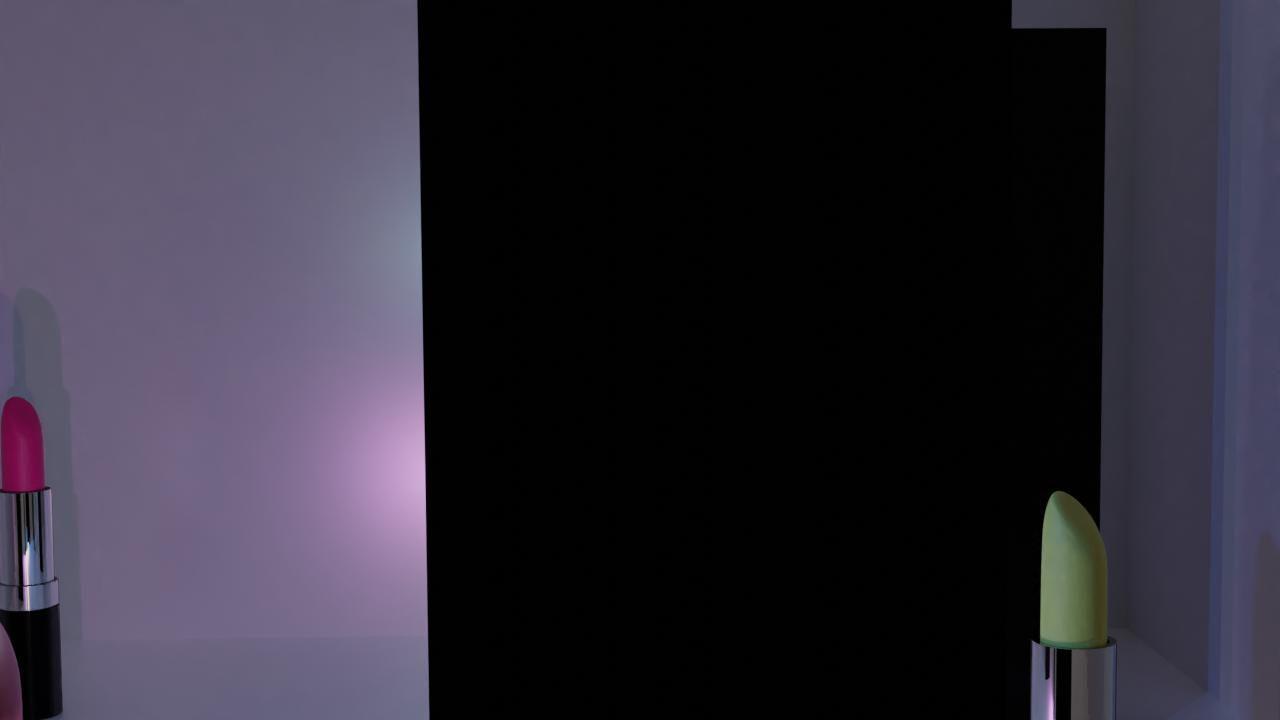CLASSIFIER_NAME: (1019, 485, 1124, 720), (0, 392, 64, 720), (0, 593, 66, 720)
